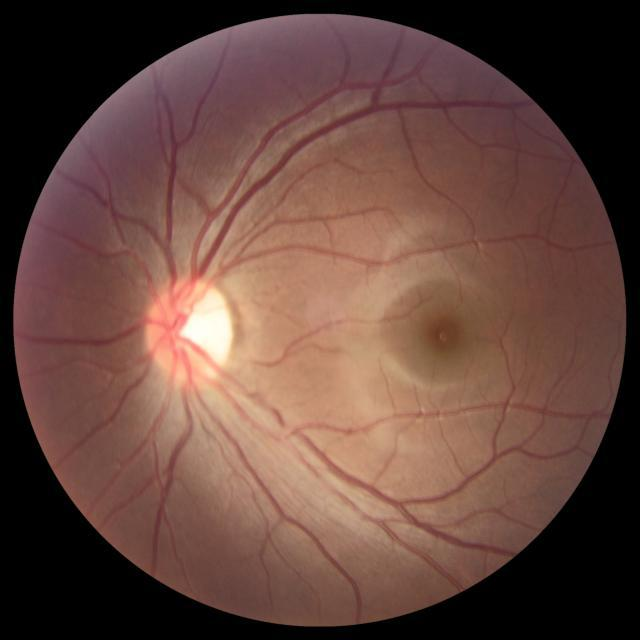OC: (175, 298, 229, 353)
OD: (144, 277, 236, 387)
